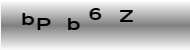6: (88, 7, 101, 20)
P: (36, 17, 50, 30)
Z: (118, 9, 134, 22)
b: (20, 11, 34, 25), (66, 17, 80, 30)
